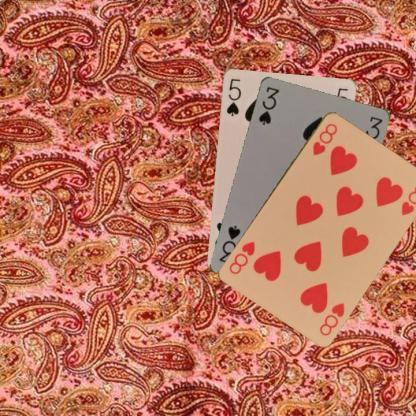3s: (256, 83, 280, 127)
5s: (224, 76, 242, 116)
8h: (317, 300, 346, 337), (310, 120, 338, 157)
